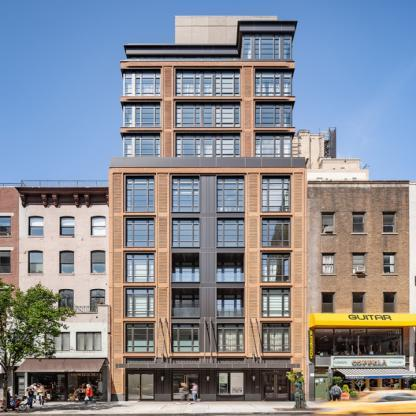Balcony: (217, 308, 244, 317), (172, 308, 199, 317), (218, 274, 245, 282), (172, 274, 199, 282)
Building Outline: (109, 16, 306, 402)
Dont: (285, 370, 306, 407), (176, 382, 202, 405)
Door: (216, 372, 244, 402), (262, 372, 289, 402), (128, 372, 154, 402), (173, 372, 198, 402)
Door Hole: (217, 288, 244, 317), (217, 253, 244, 282), (172, 253, 199, 282), (172, 288, 199, 317)
Facade: (109, 167, 307, 402)
Floor: (109, 167, 307, 213), (109, 321, 307, 358), (109, 285, 307, 317), (109, 216, 307, 248), (109, 252, 307, 282), (124, 131, 292, 163), (124, 65, 292, 97), (124, 100, 292, 128)
Floor Slab: (109, 317, 307, 321), (109, 281, 307, 285), (111, 163, 307, 167), (109, 248, 307, 251), (109, 213, 307, 216), (109, 358, 307, 361), (124, 62, 292, 65), (124, 128, 292, 131), (124, 97, 292, 100)
Ground Floor: (109, 361, 307, 402)
Top Floor: (244, 22, 292, 62)
Window: (176, 69, 240, 96), (176, 133, 240, 157), (176, 102, 240, 126), (244, 32, 292, 59), (262, 175, 291, 211), (125, 175, 154, 211), (172, 175, 200, 211), (216, 175, 244, 211), (124, 69, 160, 96), (256, 69, 292, 96), (256, 133, 292, 157), (124, 133, 160, 157), (124, 102, 160, 126), (256, 102, 292, 126), (262, 288, 291, 317), (125, 288, 154, 317), (262, 253, 291, 282), (125, 253, 154, 282), (262, 218, 291, 247), (262, 323, 291, 352), (125, 323, 154, 352), (125, 218, 154, 247), (171, 218, 199, 247), (216, 218, 244, 247), (171, 323, 199, 352), (216, 323, 244, 352)
